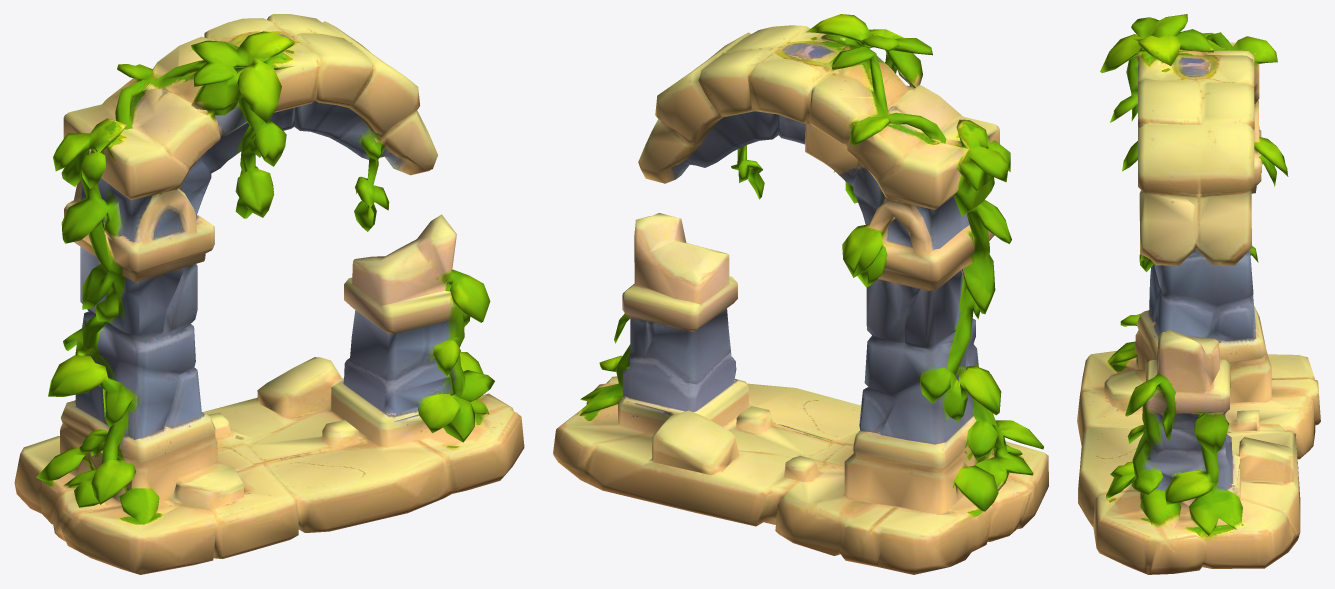
The model's file is ruin_arch-CRNHTIRB.glb.
3 views of the same model, side by side, from view 1: azimuth 30°, elevation 25°; view 2: azimuth 150°, elevation 25°; view 3: azimuth 270°, elevation 25° (orthographic). The views are drawn at different scales.
Visible parts, largest first — view 1: ruin_arch; view 2: ruin_arch; view 3: ruin_arch.
Part boxes in pixels (box(x1,y1,x2,y2)): ruin_arch: box(14, 14, 524, 574); ruin_arch: box(553, 14, 1048, 574); ruin_arch: box(1077, 14, 1320, 574).
Bounding box in the file's own units: 3.89 × 3.9 × 2.02.
1 material, 1 textured.
